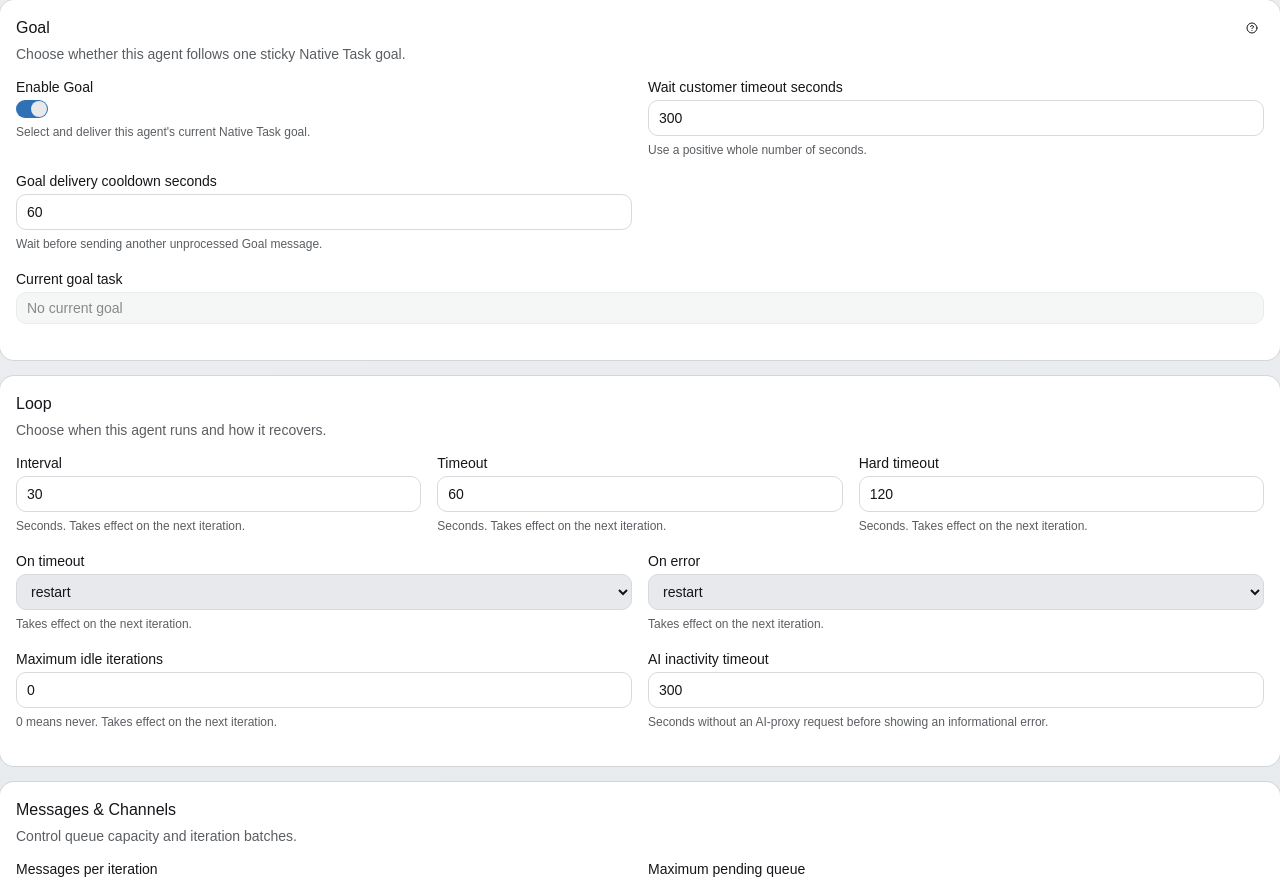
it: rejects Goal timeout 0 before saving
The width and height of the screenshot is (1280, 877).
Replace the text in the number field labelled "Wait customer timeout seconds" with "0" at (956, 118), box [648,100,1264,136]
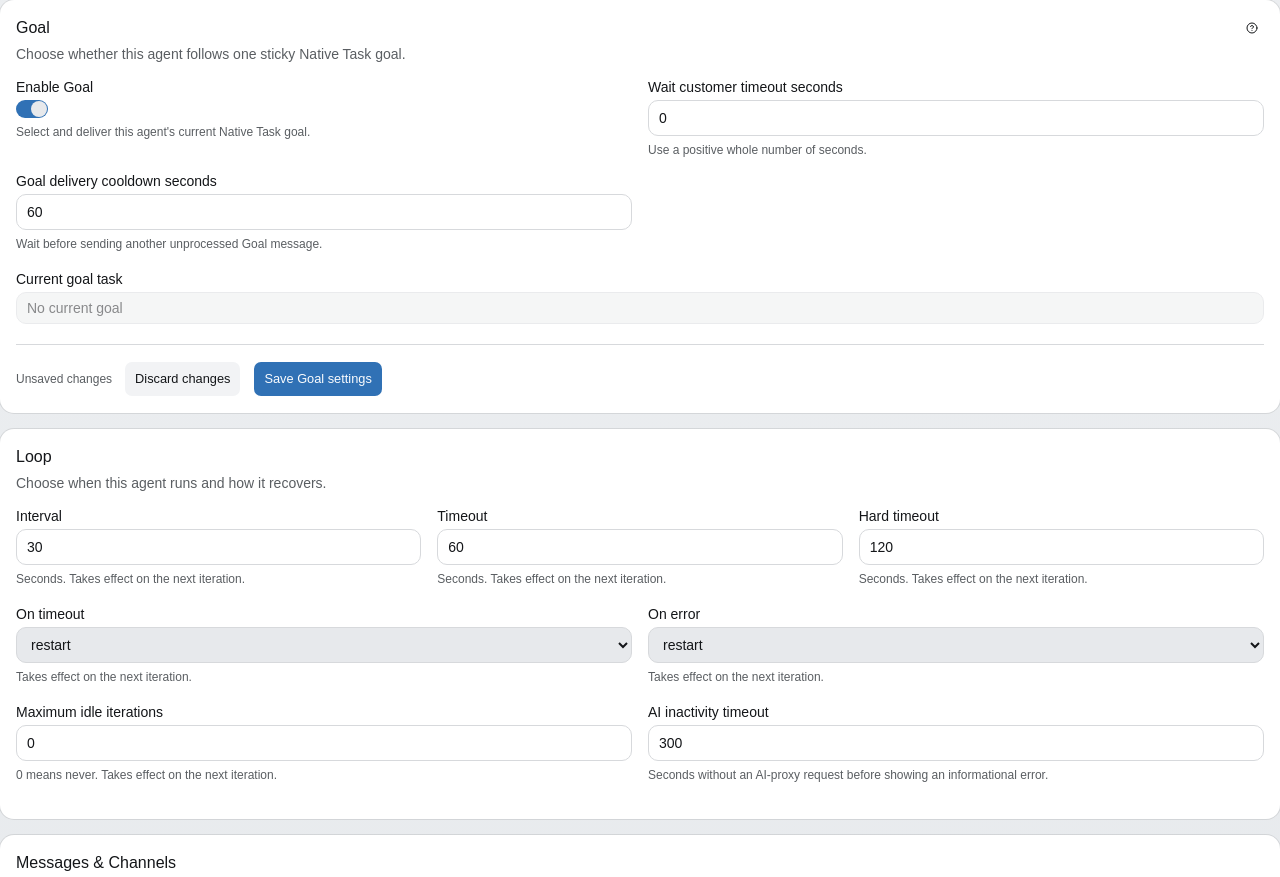
Click the button "Save Goal settings" at (318, 379), box [253,361,383,397]
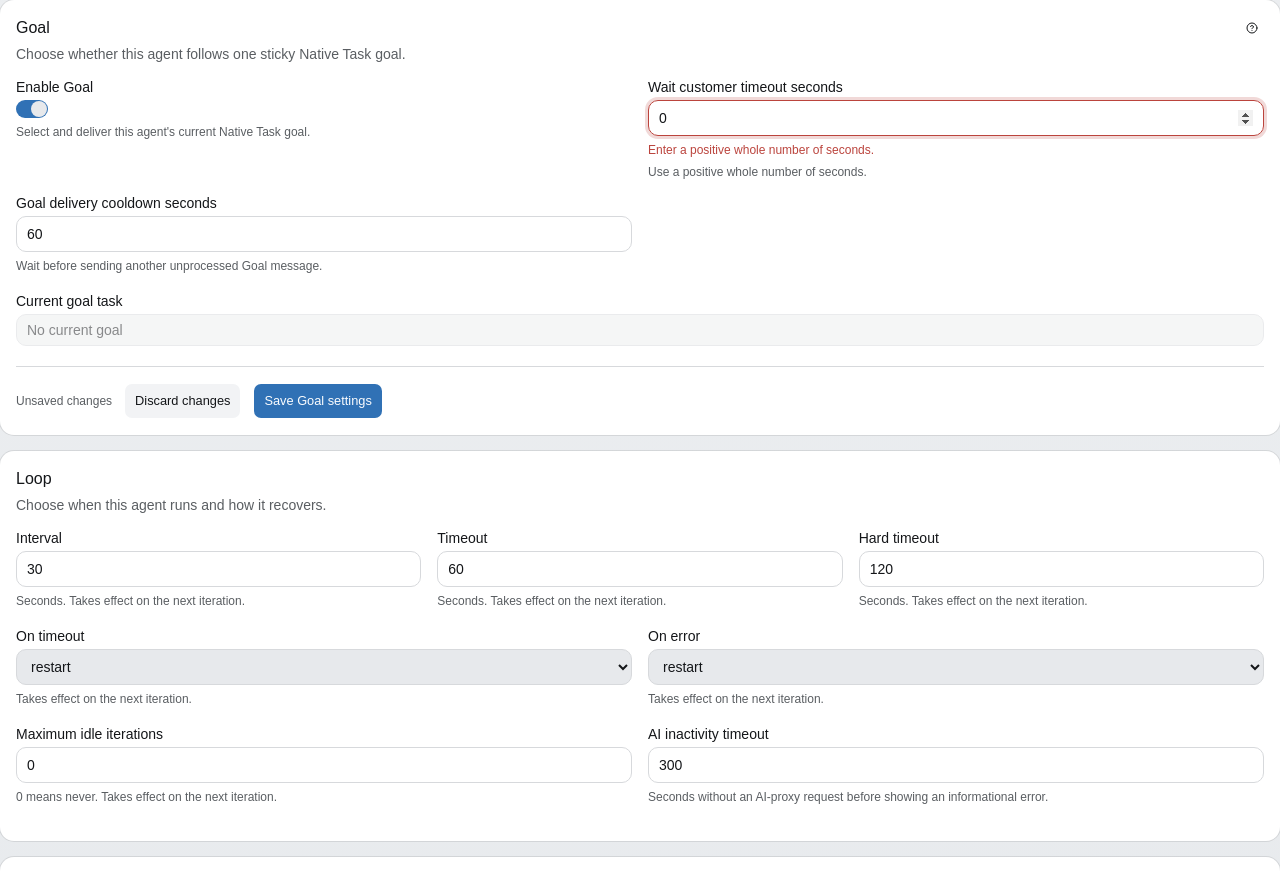
Expected: the message "Enter a positive whole number of seconds." is shown, [648,143,874,157]
